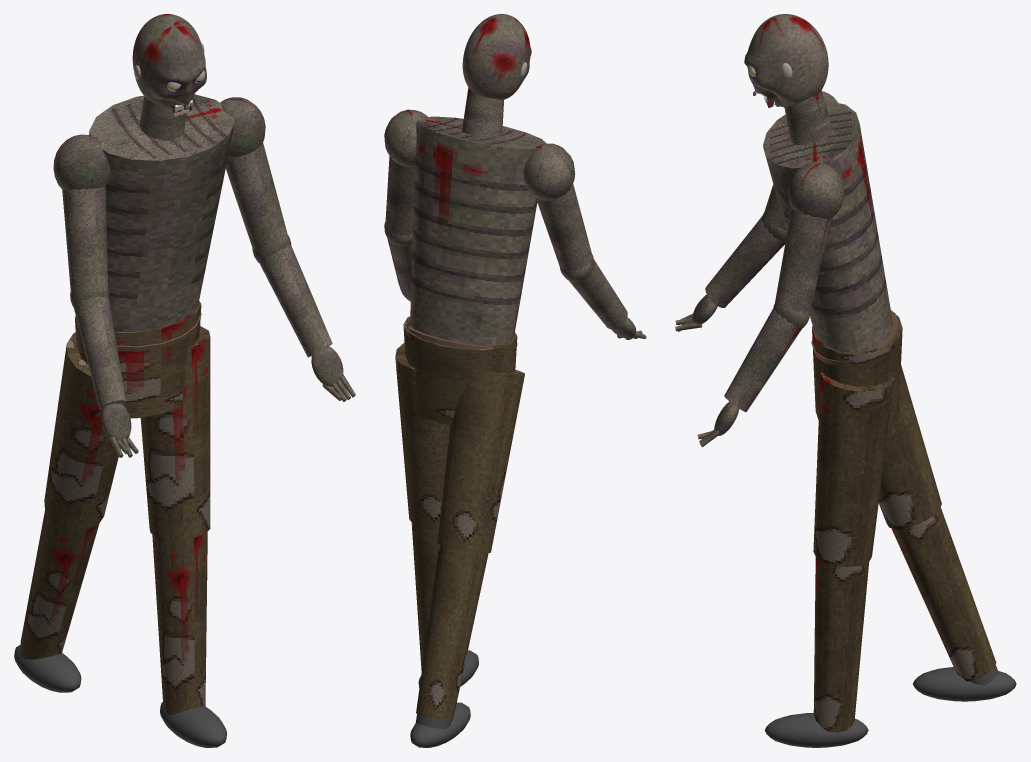
The model's file is Zombie_085.glb.
3 views of the same model, side by side, from view 1: azimuth 30°, elevation 25°; view 2: azimuth 150°, elevation 25°; view 3: azimuth 270°, elevation 25° (orthographic). The views are drawn at different scales.
Parts seen in each view (by area): view 1: Zombie_085, object 16, object 3, object 10, object 11, object 4; view 2: Zombie_085, object 16, object 3, object 10; view 3: Zombie_085, object 16, object 10, object 3.
Boxes of the visible parts, <box> form: Zombie_085: <box>14,94,288,747</box>; object 16: <box>132,14,206,109</box>; object 3: <box>73,296,126,410</box>; object 10: <box>259,244,332,357</box>; object 11: <box>311,346,343,386</box>; object 4: <box>101,403,131,441</box>; Zombie_085: <box>384,88,592,747</box>; object 16: <box>462,14,531,100</box>; object 3: <box>569,259,627,329</box>; object 10: <box>387,238,412,293</box>; Zombie_085: <box>763,90,1016,747</box>; object 16: <box>744,14,828,108</box>; object 10: <box>724,308,801,412</box>; object 3: <box>705,216,785,307</box>.
Size of the model in its own units: 0.6873 by 1.95 by 0.85.
Materials: 15 (5 with a texture image).
